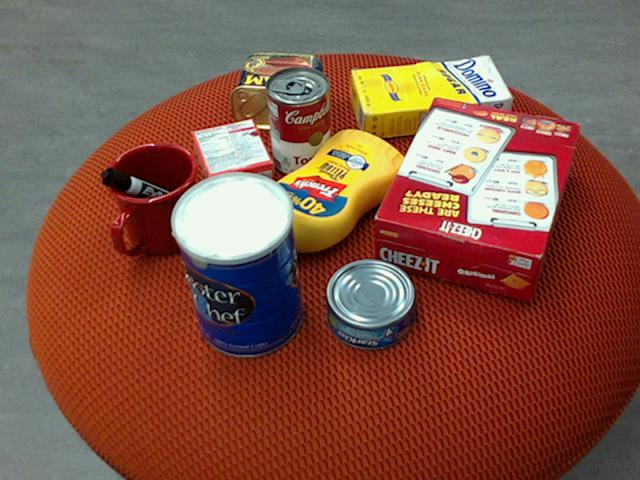cracker_box: (374, 96, 581, 299)
gelatin_box: (191, 117, 273, 195)
large_marker: (99, 167, 198, 218)
master_chef_can: (167, 173, 303, 358)
mug: (103, 142, 204, 255)
mustard_bottle: (249, 129, 408, 261)
potted_meat_can: (231, 53, 324, 130)
sugar_box: (349, 54, 513, 139)
tomato_soup_can: (266, 65, 330, 176)
tuna_fish_can: (326, 259, 416, 350)
